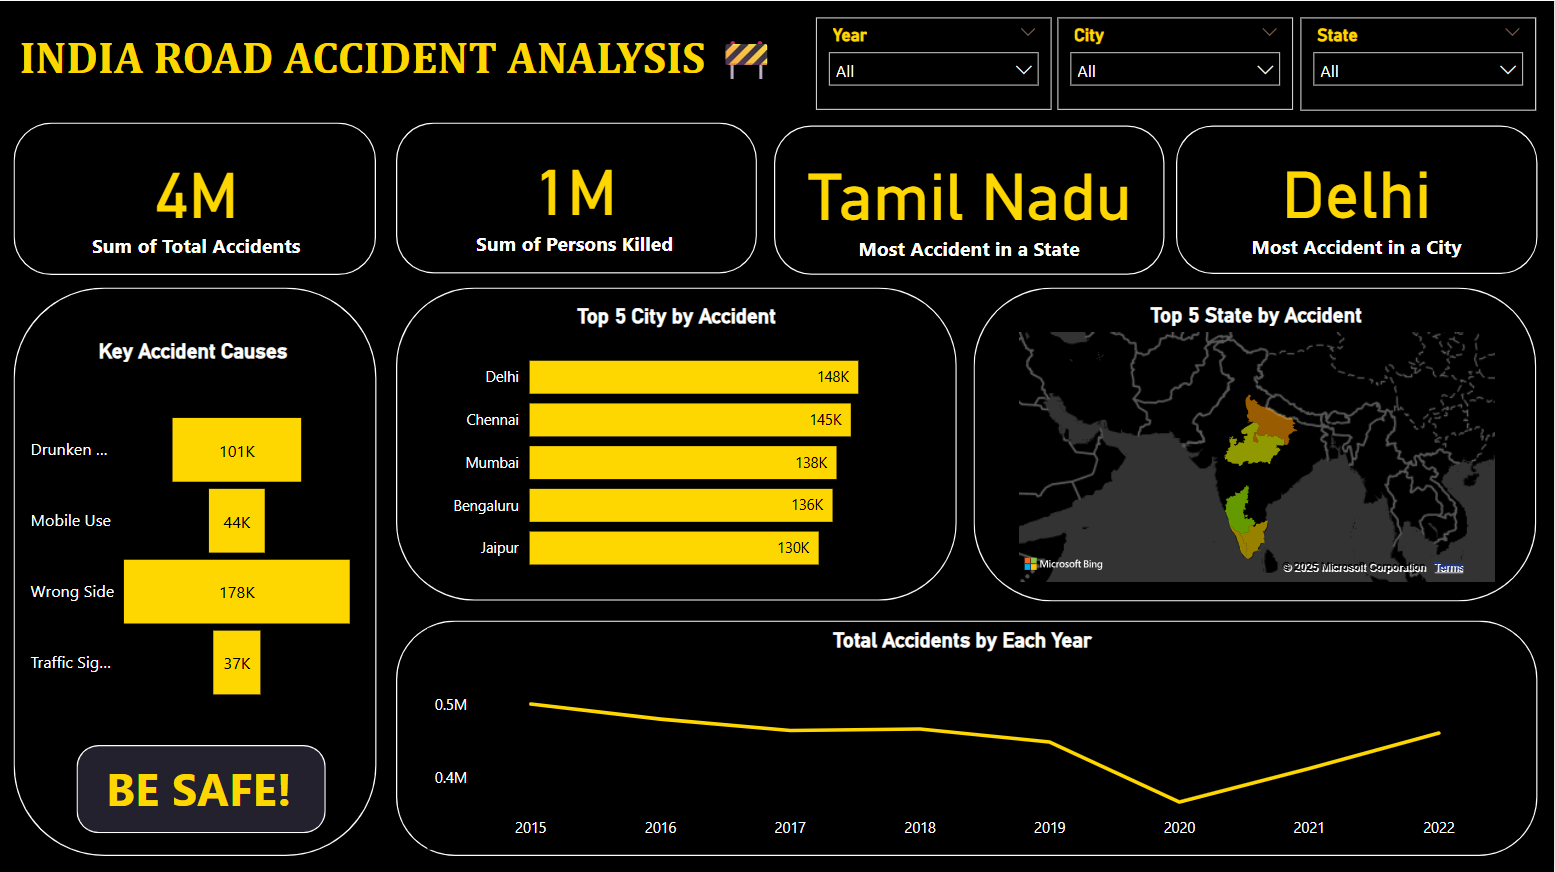

The dashboard page shown, as its layout file describes it:
{"tool":"powerbi","page":{"name":"Page 1","canvas":[1280,720],"ordinal":0},"visuals":[{"type":"textbox","box":[11.1,13.6,1244.4,121.1],"z":0},{"type":"shape","box":[846.4,313.4,299.8,137.8],"z":1000},{"type":"shape","box":[834.3,346.8,299.8,137.8],"z":2000},{"type":"shape","box":[10.8,100,298.7,125.7],"z":3000},{"type":"shape","box":[11.1,236,299,468.3],"z":4000},{"type":"shape","box":[325.8,236.6,462.3,258.2],"z":5000},{"type":"shape","box":[802.5,236.2,463.8,258.8],"z":6000},{"type":"shape","box":[326.2,510.4,940.4,194],"z":7000},{"type":"lineChart","title":"Total Accidents by Each Year","fields":{"Category":["File1_Sheet1.Year"],"Y":["Sum(File1_Sheet1.Total Accidents)"]},"box":[352.2,516.5,881.1,182.9],"z":8000},{"type":"funnel","title":"Key Accident Causes","fields":{"Y":["Sum(File1_Sheet1.Drunken Driving Accidents)","Sum(File1_Sheet1.Mobile Usage Accidents)","Sum(File1_Sheet1.Wrong Side Accidents)","Sum(File1_Sheet1.Traffic Signal Accidents)"]},"box":[19.7,278.6,278.6,339.2],"z":9000},{"type":"shape","box":[63,612.9,205.1,72.9],"z":10000},{"type":"textbox","box":[72.9,617.9,181.7,59.3],"z":11000},{"type":"card","fields":{"Values":["Sum(File1_Sheet1.Total Accidents)"]},"box":[36.5,108.1,248.7,109.5],"z":12000},{"type":"shape","box":[638,102.7,321.7,123],"z":13000},{"type":"shape","box":[325.8,100,297.4,124.4],"z":14000},{"type":"shape","box":[968.8,102.6,297.8,122.3],"z":15000},{"type":"card","fields":{"Values":["Sum(File1_Sheet1.Persons Killed)"]},"box":[336.6,112.2,274.4,98.7],"z":16000},{"type":"card","fields":{"Values":["Min(Sheet2.Top State)"]},"box":[654.2,112.2,289.3,105.4],"z":17000},{"type":"card","fields":{"Values":["Min(Sheet2.Top City)"]},"box":[986.1,111.2,263.2,105],"z":18000},{"type":"slicer","fields":{"Values":["File1_Sheet1.Year"]},"box":[672.6,14.2,194.2,75.8],"z":19000},{"type":"slicer","fields":{"Values":["Sheet1.City"]},"box":[871.6,14.2,194.2,75.8],"z":20000},{"type":"slicer","fields":{"Values":["Sheet1.State"]},"box":[1071.4,13.6,194,76.6],"z":21000},{"type":"clusteredBarChart","title":"Top 5 City by Accident","fields":{"Category":["Sheet1.City"],"Y":["Sum(Sheet1.City Accident)"]},"box":[361.9,249.8,390.7,234.7],"z":23000},{"type":"filledMap","title":"Top 5 State by Accident","fields":{"Category":["Sheet1.State"]},"box":[834.1,247.9,401.6,235],"z":24000}]}

Visuals, with their boxes in screenshot pixels (x1, y1, x2, y2), scaled from the page's 1280x720 canvas onto the 1555x872 screenshot:
textbox: 13:16:1525:163
shape: 1028:380:1392:546
shape: 1014:420:1378:587
shape: 13:121:376:273
shape: 13:286:377:853
shape: 396:287:957:599
shape: 975:286:1538:600
shape: 396:618:1539:853
"Total Accidents by Each Year" lineChart: 428:626:1498:847
"Key Accident Causes" funnel: 24:337:362:748
shape: 77:742:326:831
textbox: 89:748:309:820
card - Sum(File1_Sheet1.Total Accidents): 44:131:346:264
shape: 775:124:1166:273
shape: 396:121:757:272
shape: 1177:124:1539:272
card - Sum(File1_Sheet1.Persons Killed): 409:136:742:255
card - Min(Sheet2.Top State): 795:136:1146:264
card - Min(Sheet2.Top City): 1198:135:1518:262
slicer - File1_Sheet1.Year: 817:17:1053:109
slicer - Sheet1.City: 1059:17:1295:109
slicer - Sheet1.State: 1302:16:1537:109
"Top 5 City by Accident" clusteredBarChart: 440:303:914:587
"Top 5 State by Accident" filledMap: 1013:300:1501:585
